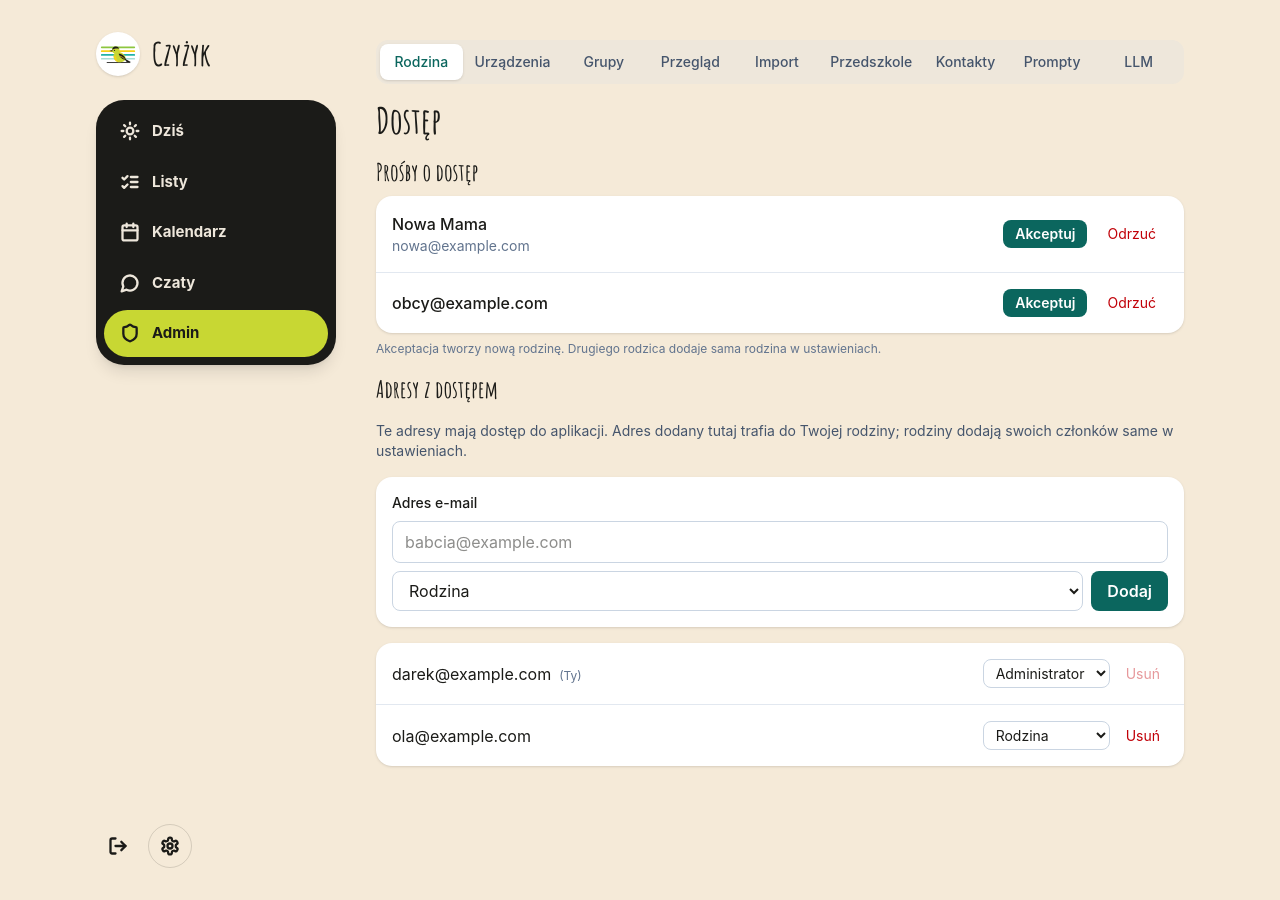
Test: Admin → Dostęp › akceptuje i odrzuca prośby o dostęp
Expected: the text "Nowa Mama" is shown, [392,214,487,234]
Click the button with aria-label "Akceptuj nowa@example.com" at (1045, 234), box [1003,220,1087,248]
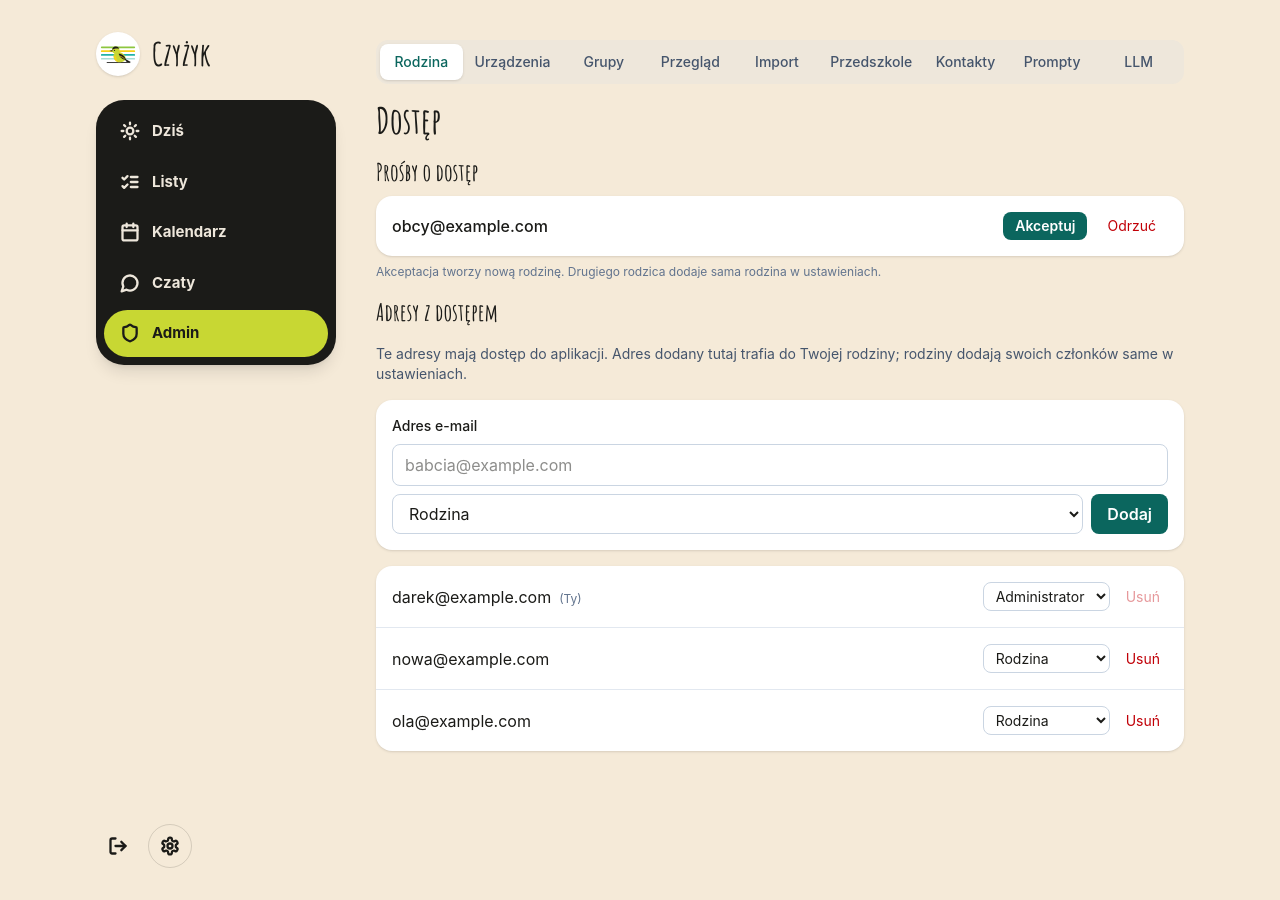
Expected: the text "nowa@example.com" is shown, [392,648,549,668]
Result: the text "Nowa Mama" is gone
Click the button with aria-label "Odrzuć obcy@example.com" at (1132, 226), box [1095,212,1168,240]
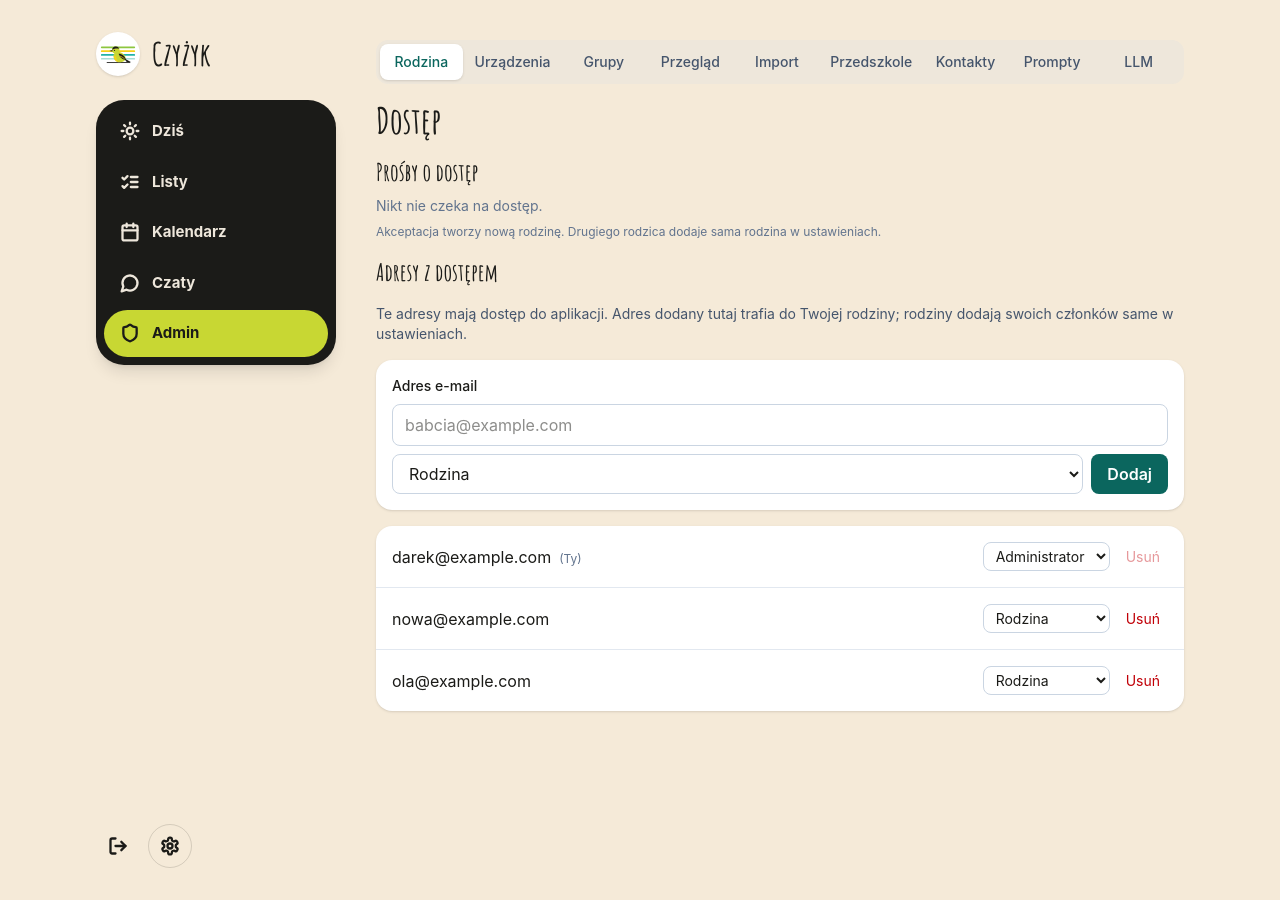
Result: the text "Nikt nie czeka na dostęp." is shown at [376,197,542,214]
